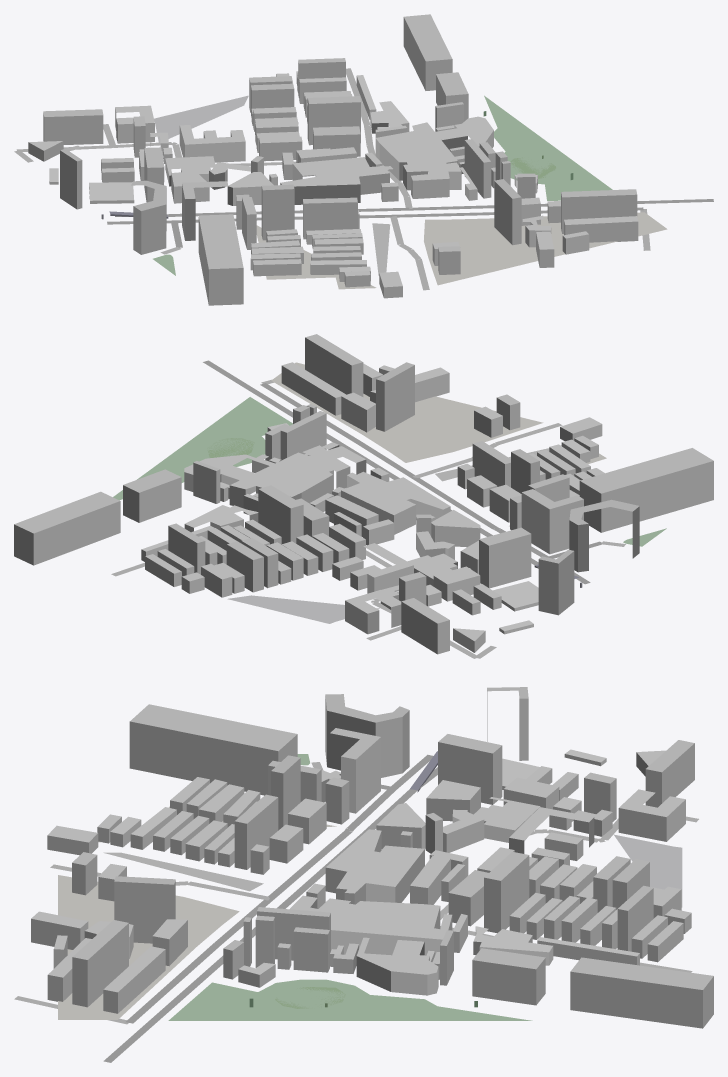
3 views of the same model, one above another, from view 1: azimuth 30°, elevation 25°; view 2: azimuth 150°, elevation 25°; view 3: azimuth 270°, elevation 25° (orthographic). The views are drawn at different scales.
Bounding box in the file's own units: 588 × 59 × 561.
